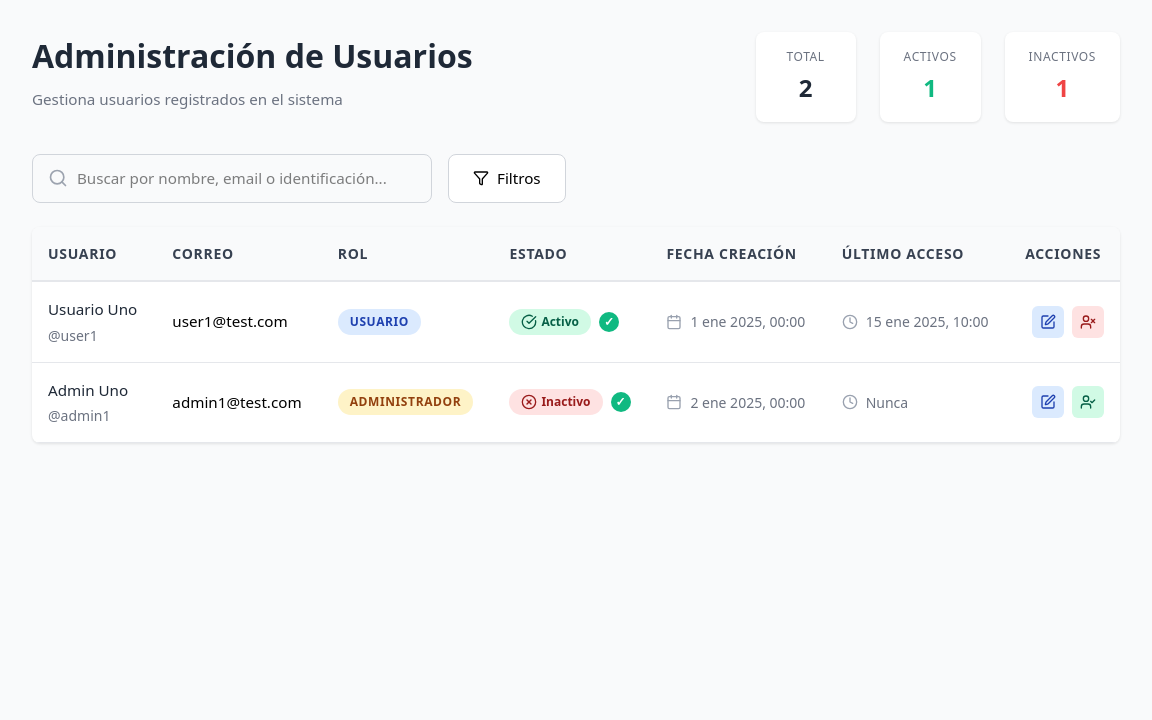
Scenario: AdminUsers › debe permitir filtrar por rol
Check: the text "Usuario Uno" is shown, box x1=48 y1=298 x2=140 y2=321
Click the button "Filtros" at x=507, y=178, box x1=448 y1=154 x2=566 y2=203
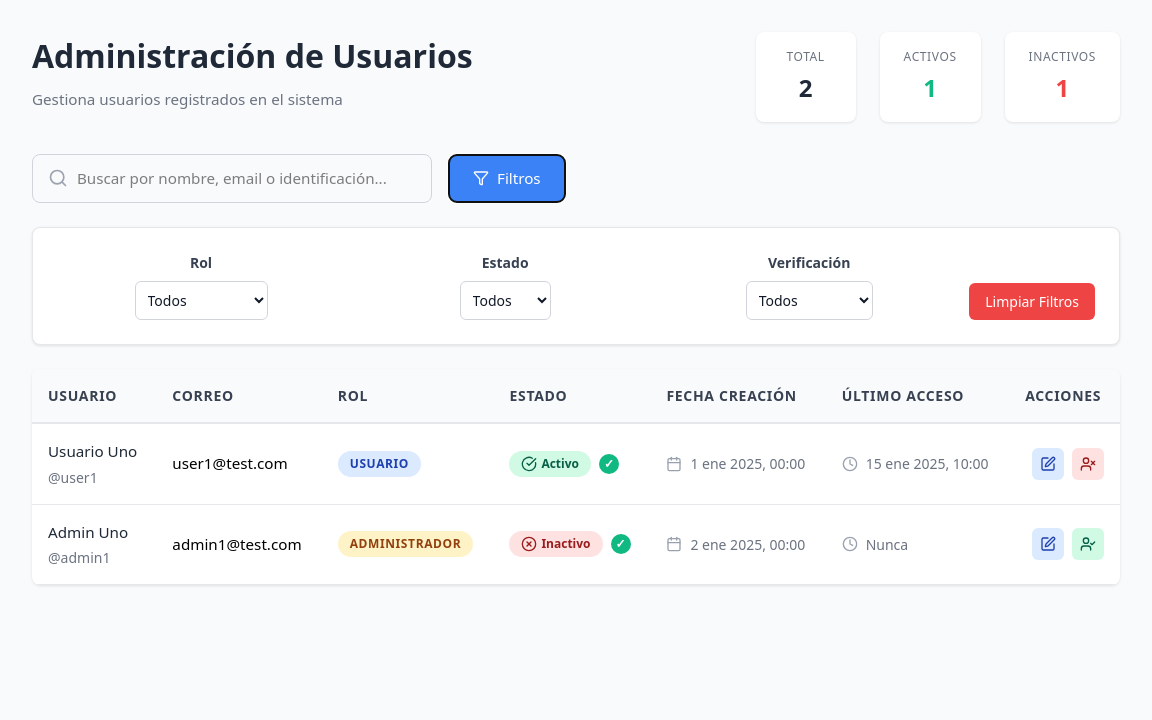
Check: the 1st dropdown is shown
Select "Usuario" in the 1st dropdown at x=201, y=300, box x1=134 y1=281 x2=268 y2=320
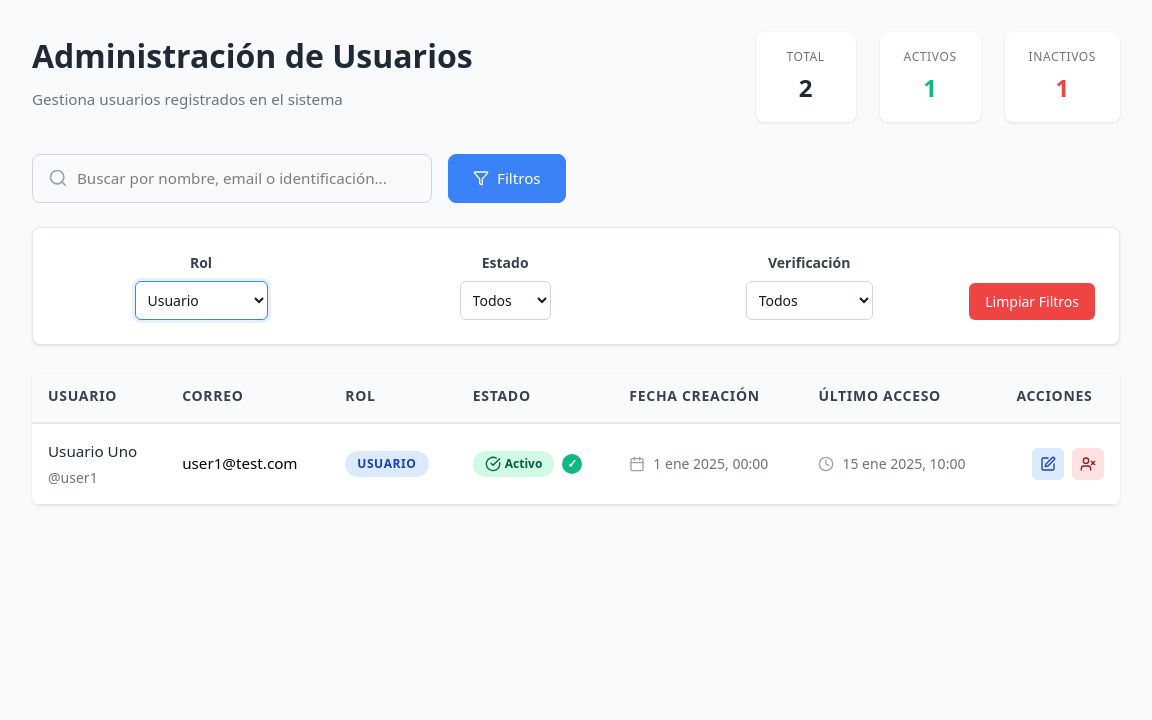
Check: the text "Usuario Uno" is shown, box x1=48 y1=440 x2=150 y2=463
Check: the text "Admin Uno" is gone
